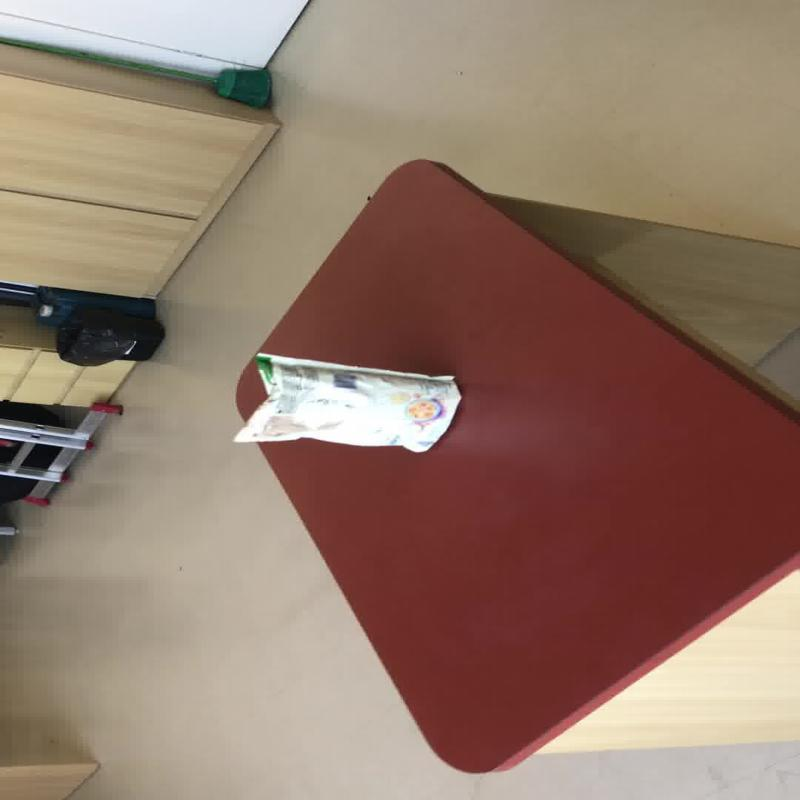corn flakes: (231, 350, 462, 452)
